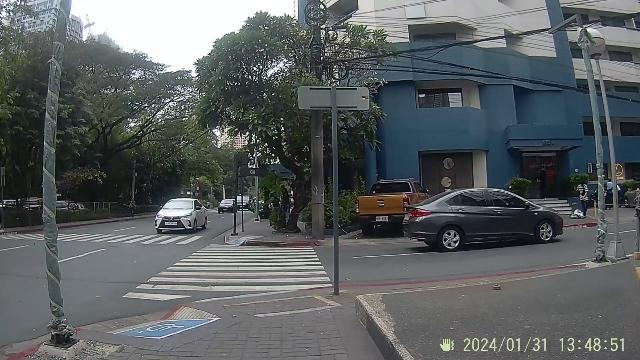lamp_post: (577, 23, 627, 263), (40, 0, 72, 346)
street_sign: (296, 82, 372, 298), (233, 163, 267, 237)
tree: (286, 168, 310, 238)
utility_post: (304, 0, 329, 232)
